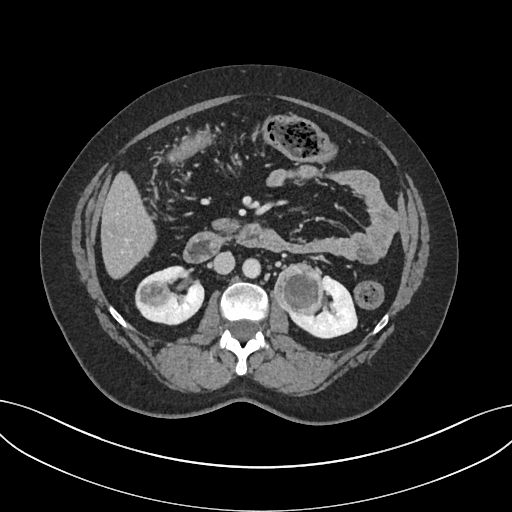Lesion: (268, 260, 326, 316)
